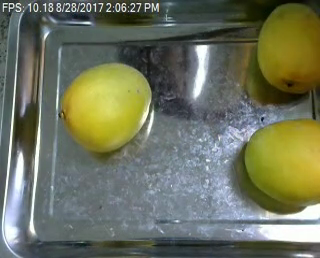Mango: (54, 63, 153, 154), (241, 116, 320, 206), (255, 1, 320, 91)
